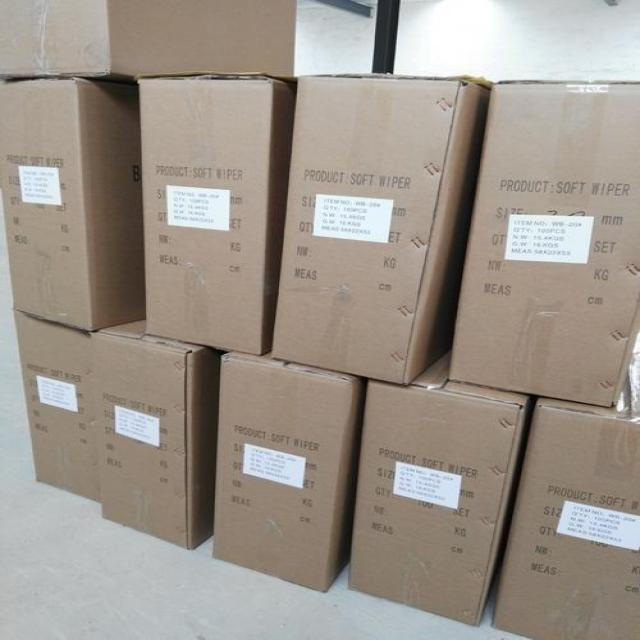box: (256, 67, 490, 389), (450, 69, 640, 408), (114, 69, 301, 356), (344, 362, 529, 630), (0, 71, 150, 336), (209, 341, 364, 593), (491, 397, 640, 640), (94, 308, 218, 554), (0, 0, 308, 88), (14, 308, 120, 504)
